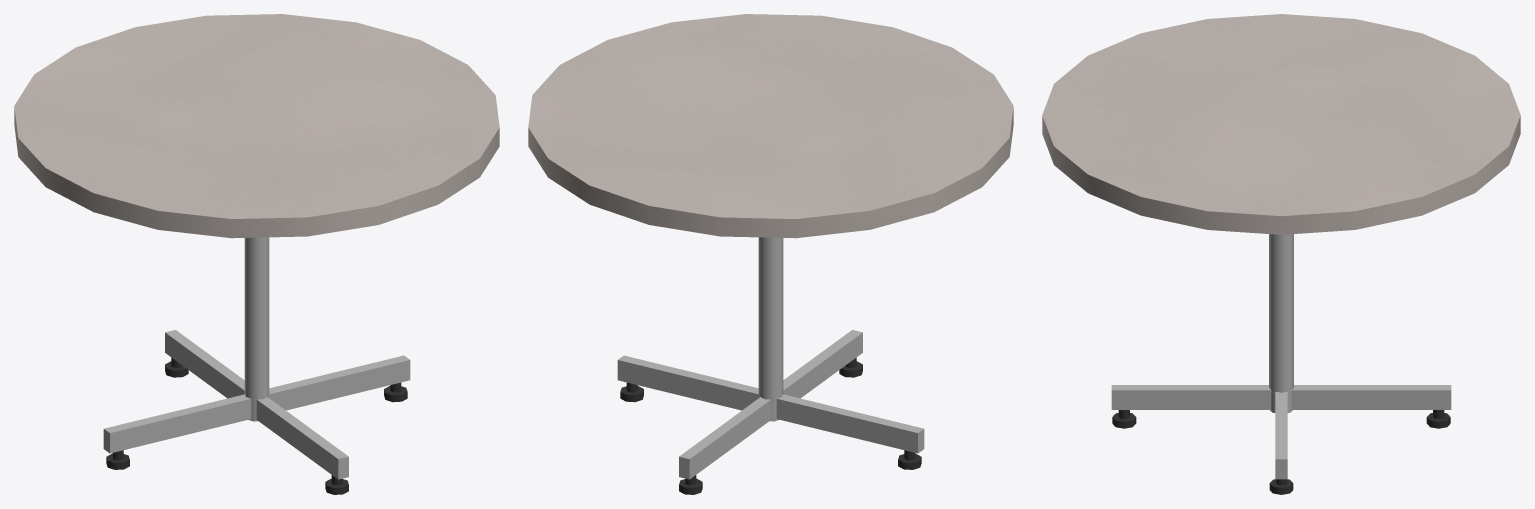
The model's file is RoundTable.glb.
3 views of the same model, side by side, from view 1: azimuth 30°, elevation 25°; view 2: azimuth 150°, elevation 25°; view 3: azimuth 270°, elevation 25° (orthographic).
Visible parts, largest first — view 1: RoundTable; view 2: RoundTable; view 3: RoundTable.
Part boxes in pixels (box(x1,y1,x2,y2)): RoundTable: box(14, 14, 499, 494); RoundTable: box(528, 14, 1013, 494); RoundTable: box(1042, 14, 1520, 494).
Size of what is drawn, in the model's own units: 0.8828 by 0.6283 by 0.8828.
3 materials, 1 textured.
